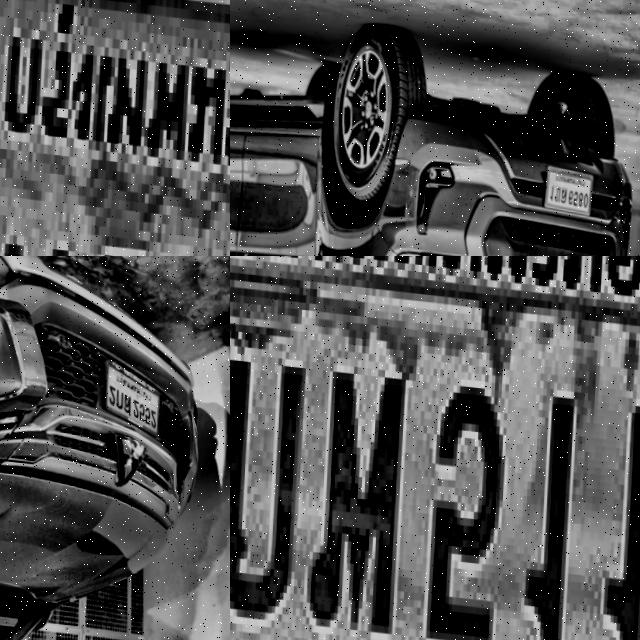license-plate: (230, 256, 640, 640), (0, 0, 230, 256), (101, 345, 166, 432), (539, 147, 598, 206)
